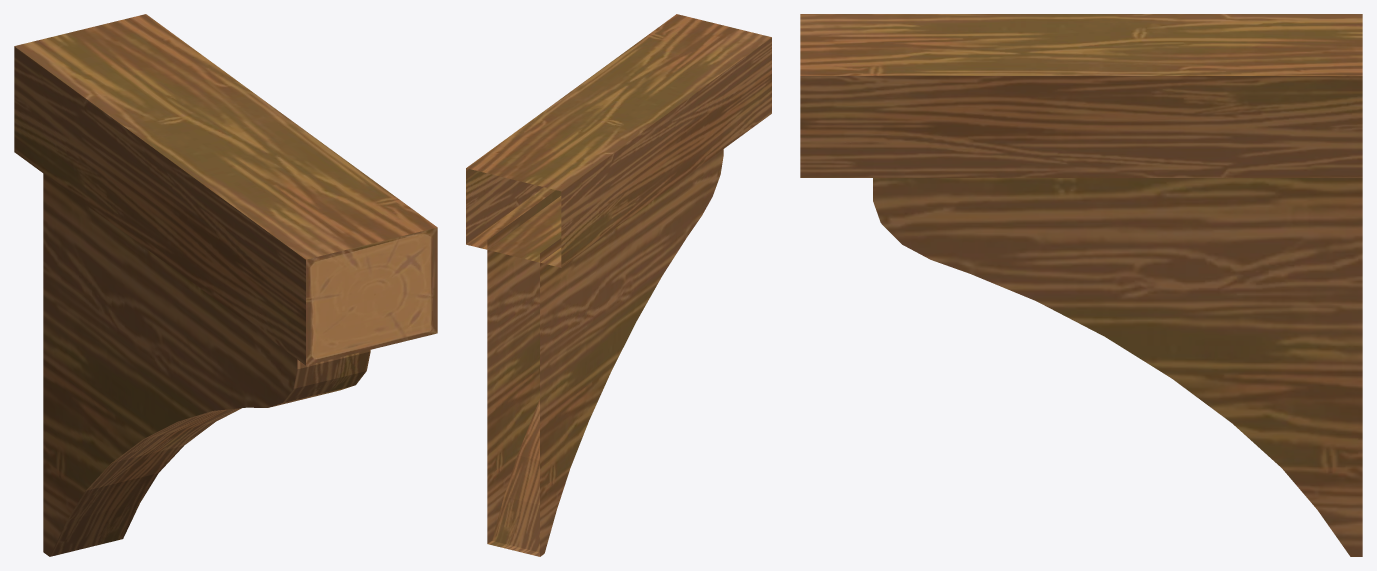
File: Roof_Support2.glb
The picture shows the model from 3 angles, left to right: view 1: azimuth 30°, elevation 25°; view 2: azimuth 150°, elevation 25°; view 3: azimuth 270°, elevation 25°; orthographic projection. The views are drawn at different scales.
Parts seen in each view (by area): view 1: Roof_Support2; view 2: Roof_Support2; view 3: Roof_Support2.
Boxes of the visible parts, x1,y1,x2,y2 form: Roof_Support2: (14, 14, 437, 556); Roof_Support2: (466, 14, 771, 556); Roof_Support2: (800, 14, 1362, 556).
Bounding box in the file's own units: 0.1997 × 0.7429 × 0.7651.
1 material, 1 textured.
